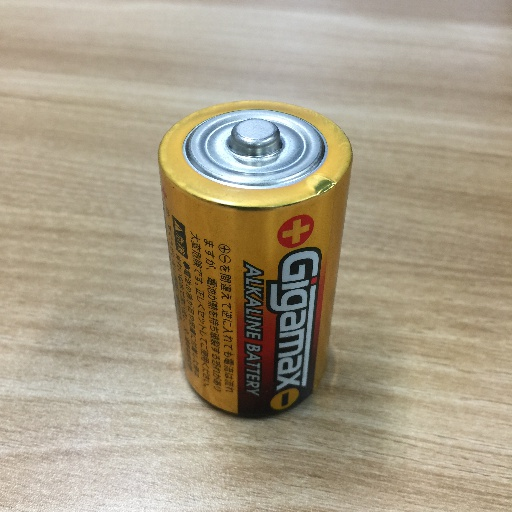Battery_0: (141, 88, 367, 425)
